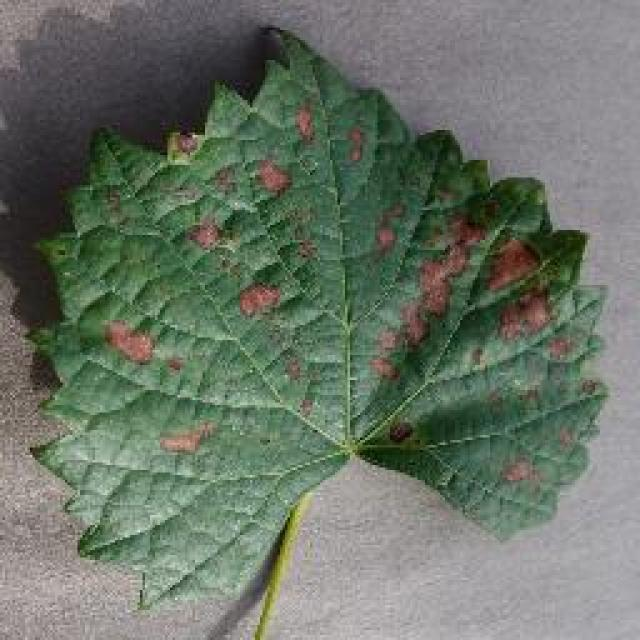Black_Measles: (28, 13, 620, 606)
